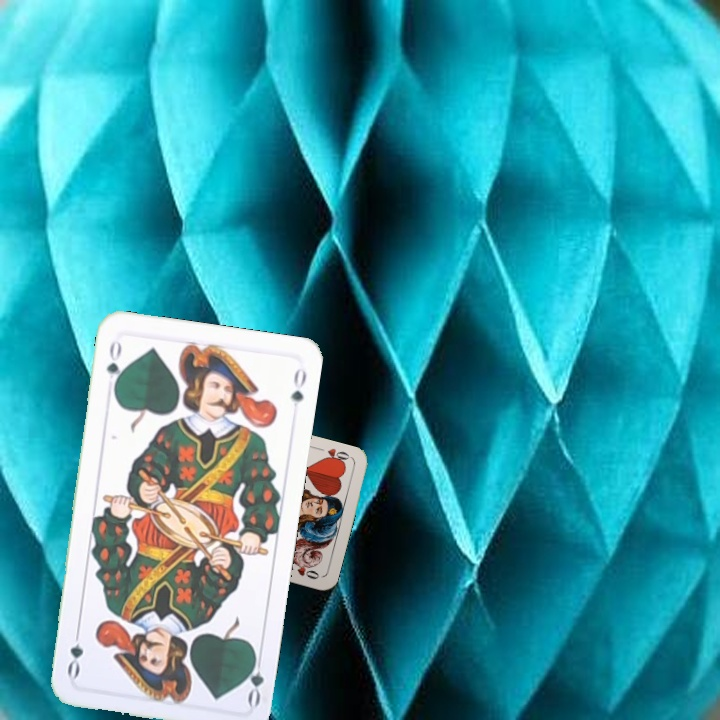GO: (239, 648, 267, 708), (102, 337, 125, 394)
HO: (319, 444, 354, 467)
